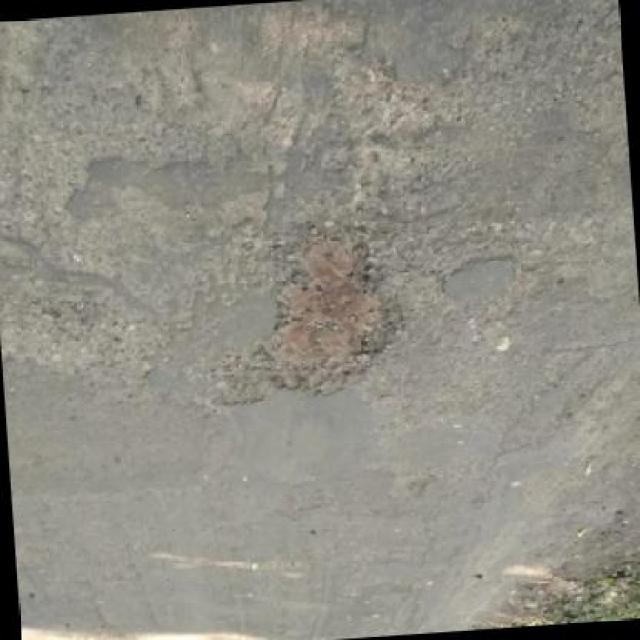pothole1: (195, 224, 411, 413)
